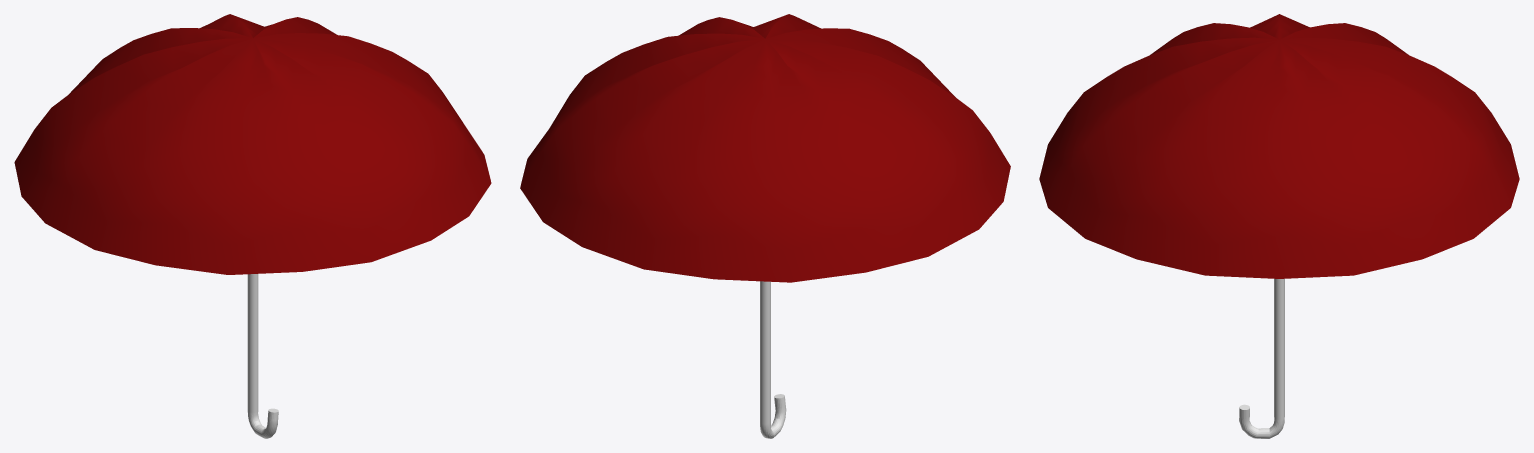
File: traffic1.fbx
3 renders of one model, left to right at view 1: azimuth 30°, elevation 25°; view 2: azimuth 150°, elevation 25°; view 3: azimuth 270°, elevation 25°, orthographic. The views are drawn at different scales.
Visible parts, largest first — view 1: pSphere1, pCylinder1; view 2: pSphere1, pCylinder1; view 3: pSphere1, pCylinder1.
Part boxes in pixels (x1,y1,x2,y2): pSphere1: (14, 14, 491, 274); pCylinder1: (247, 274, 278, 438); pSphere1: (520, 14, 1010, 282); pCylinder1: (760, 281, 786, 438); pSphere1: (1039, 14, 1519, 278); pCylinder1: (1239, 278, 1284, 438).
Bounding box in the file's own units: 0.1404 × 0.1268 × 0.1385.
